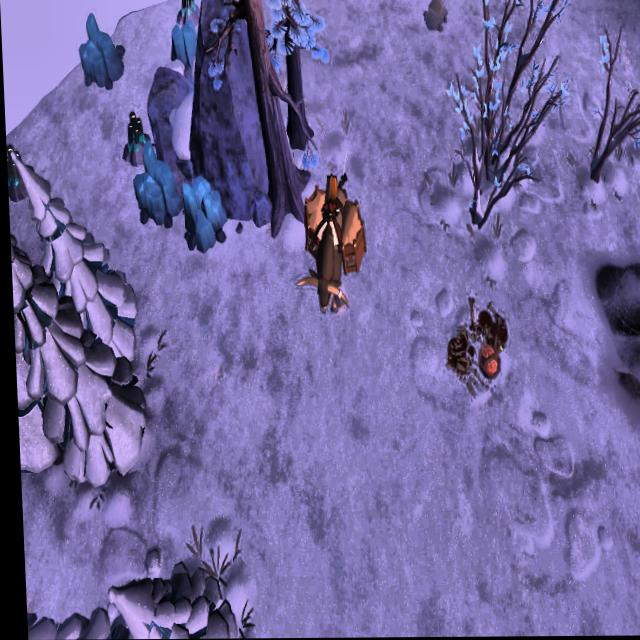ore_t4: (5, 136, 26, 193), (123, 107, 146, 157)
rock_t4: (131, 138, 180, 242), (178, 167, 231, 261), (77, 8, 126, 88), (165, 15, 201, 74)
